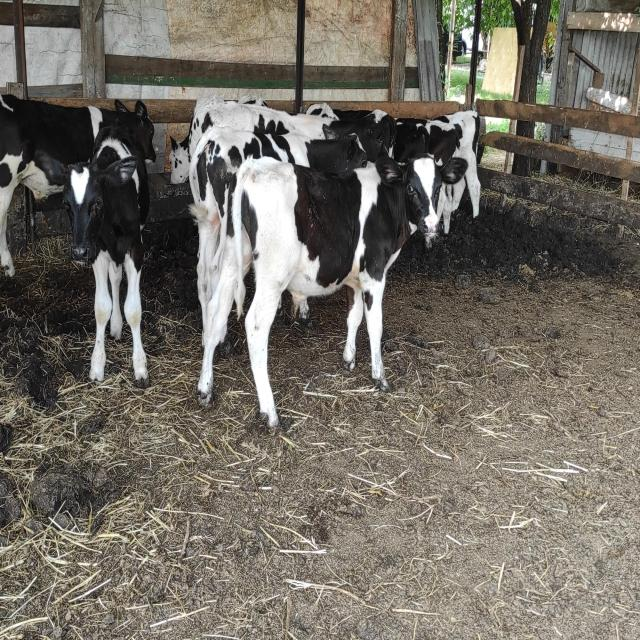cow: (197, 151, 445, 429), (0, 92, 156, 279), (60, 99, 157, 388), (356, 102, 483, 226), (167, 94, 340, 184), (393, 109, 483, 235)
